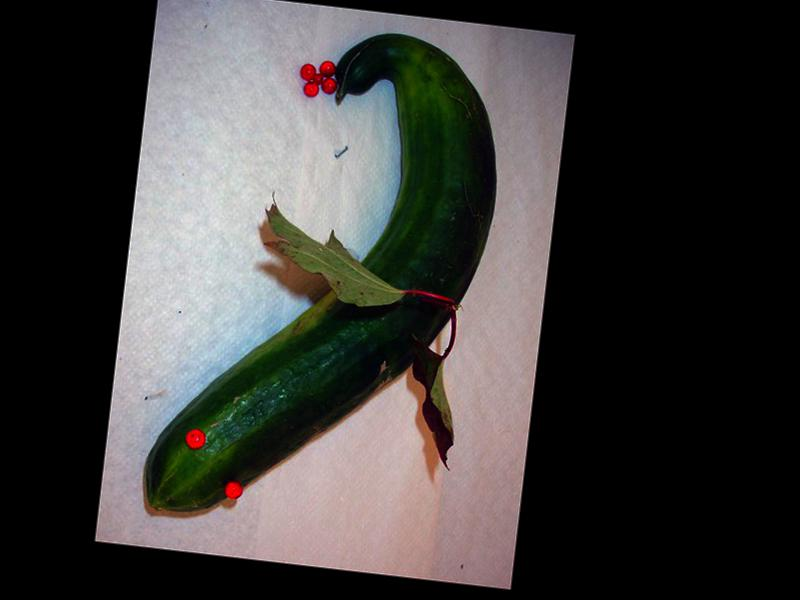Cucumber: (141, 11, 512, 545)
